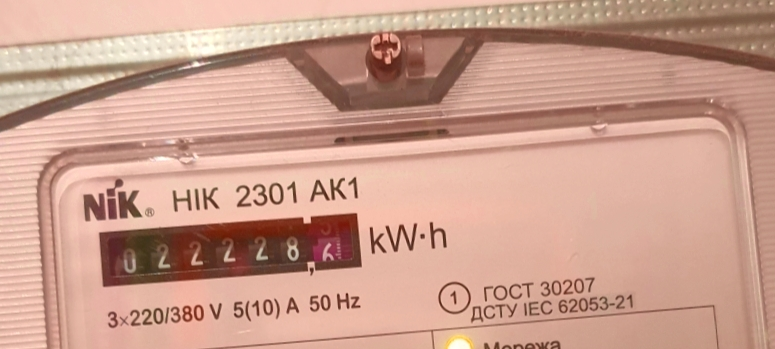0: (119, 245, 137, 275)
2: (152, 240, 172, 271), (217, 235, 237, 264), (251, 233, 270, 263), (186, 238, 204, 268)
5: (316, 216, 333, 237)
6: (317, 239, 335, 261)
8: (283, 233, 300, 263)
screen: (89, 200, 371, 297)
